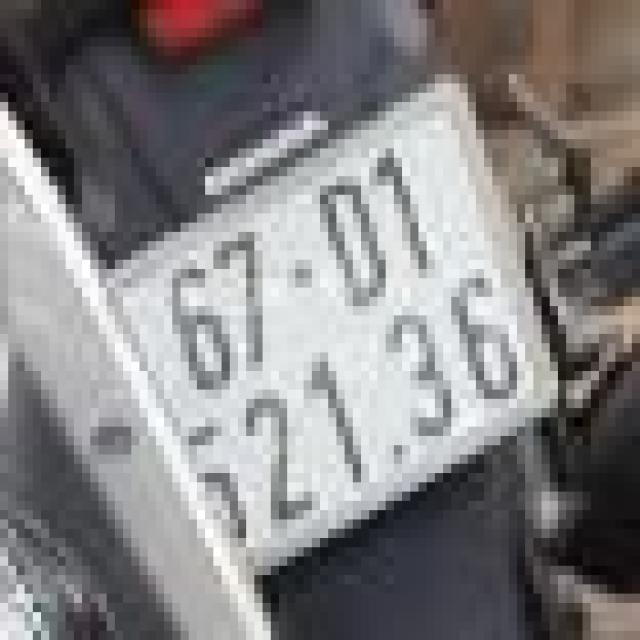1: (316, 352, 373, 492), (373, 139, 431, 269)
2: (242, 376, 316, 524)
3: (382, 297, 456, 454)
5: (180, 418, 254, 556)
6: (456, 264, 530, 413), (164, 250, 230, 390)
7: (222, 223, 279, 371)
D: (316, 172, 398, 329)
